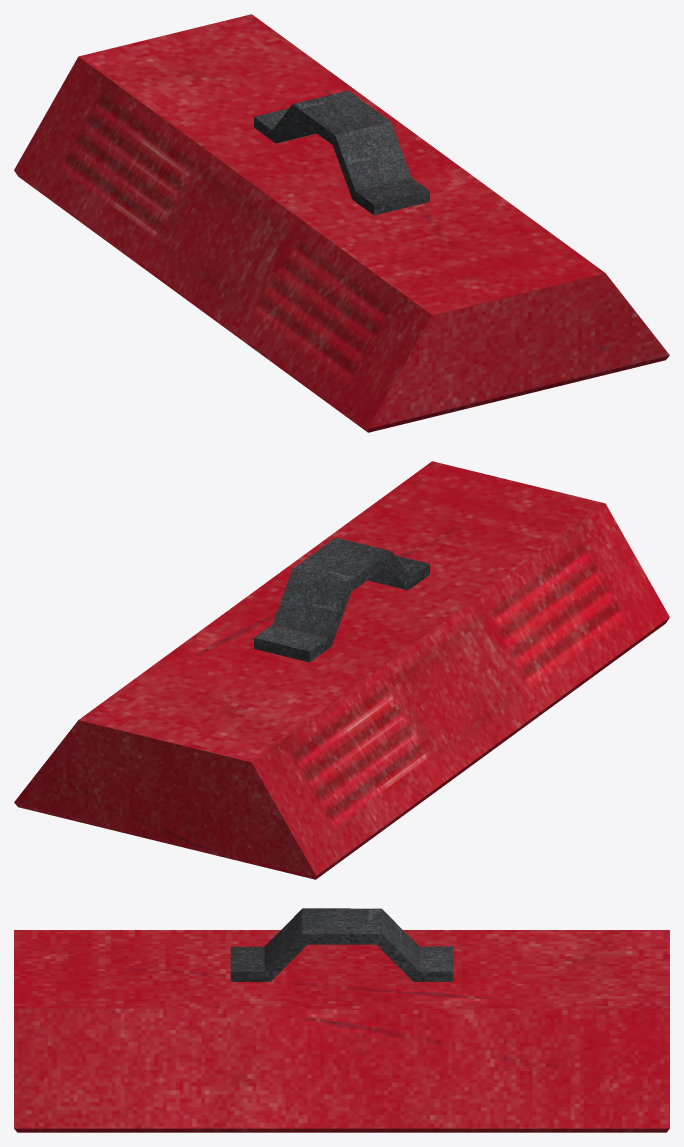
Rendered from ToolboxLidFinal.fbx.
3 views of the same model, one above another, from view 1: azimuth 30°, elevation 25°; view 2: azimuth 150°, elevation 25°; view 3: azimuth 270°, elevation 25° (orthographic). The views are drawn at different scales.
Visible parts, largest first — view 1: ToolTop; view 2: ToolTop; view 3: ToolTop.
Boxes of the visible parts, left/top/right/bottom form: ToolTop: left=14, top=14, right=669, bottom=432; ToolTop: left=14, top=461, right=669, bottom=879; ToolTop: left=14, top=908, right=669, bottom=1132.
Size of the model in its own units: 289 by 142 by 587.
Materials: 1 (1 with a texture image).
